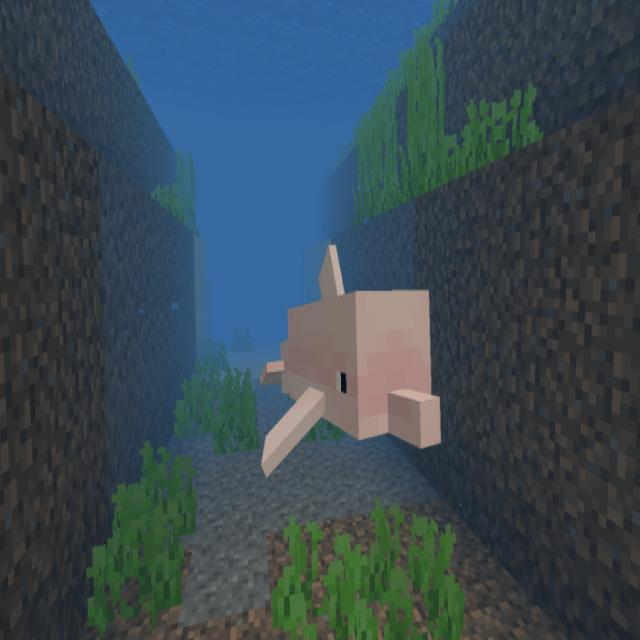Dolphin: (252, 237, 446, 505)
